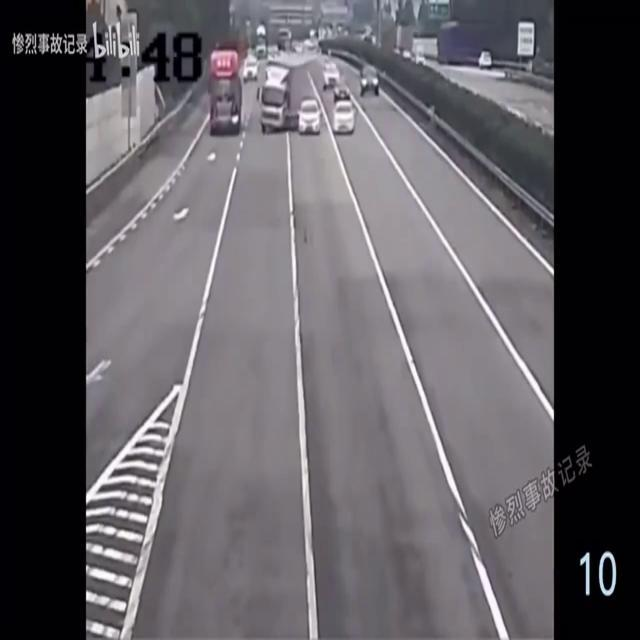multiple_accident: (247, 39, 339, 154)
normal: (206, 42, 248, 144)
